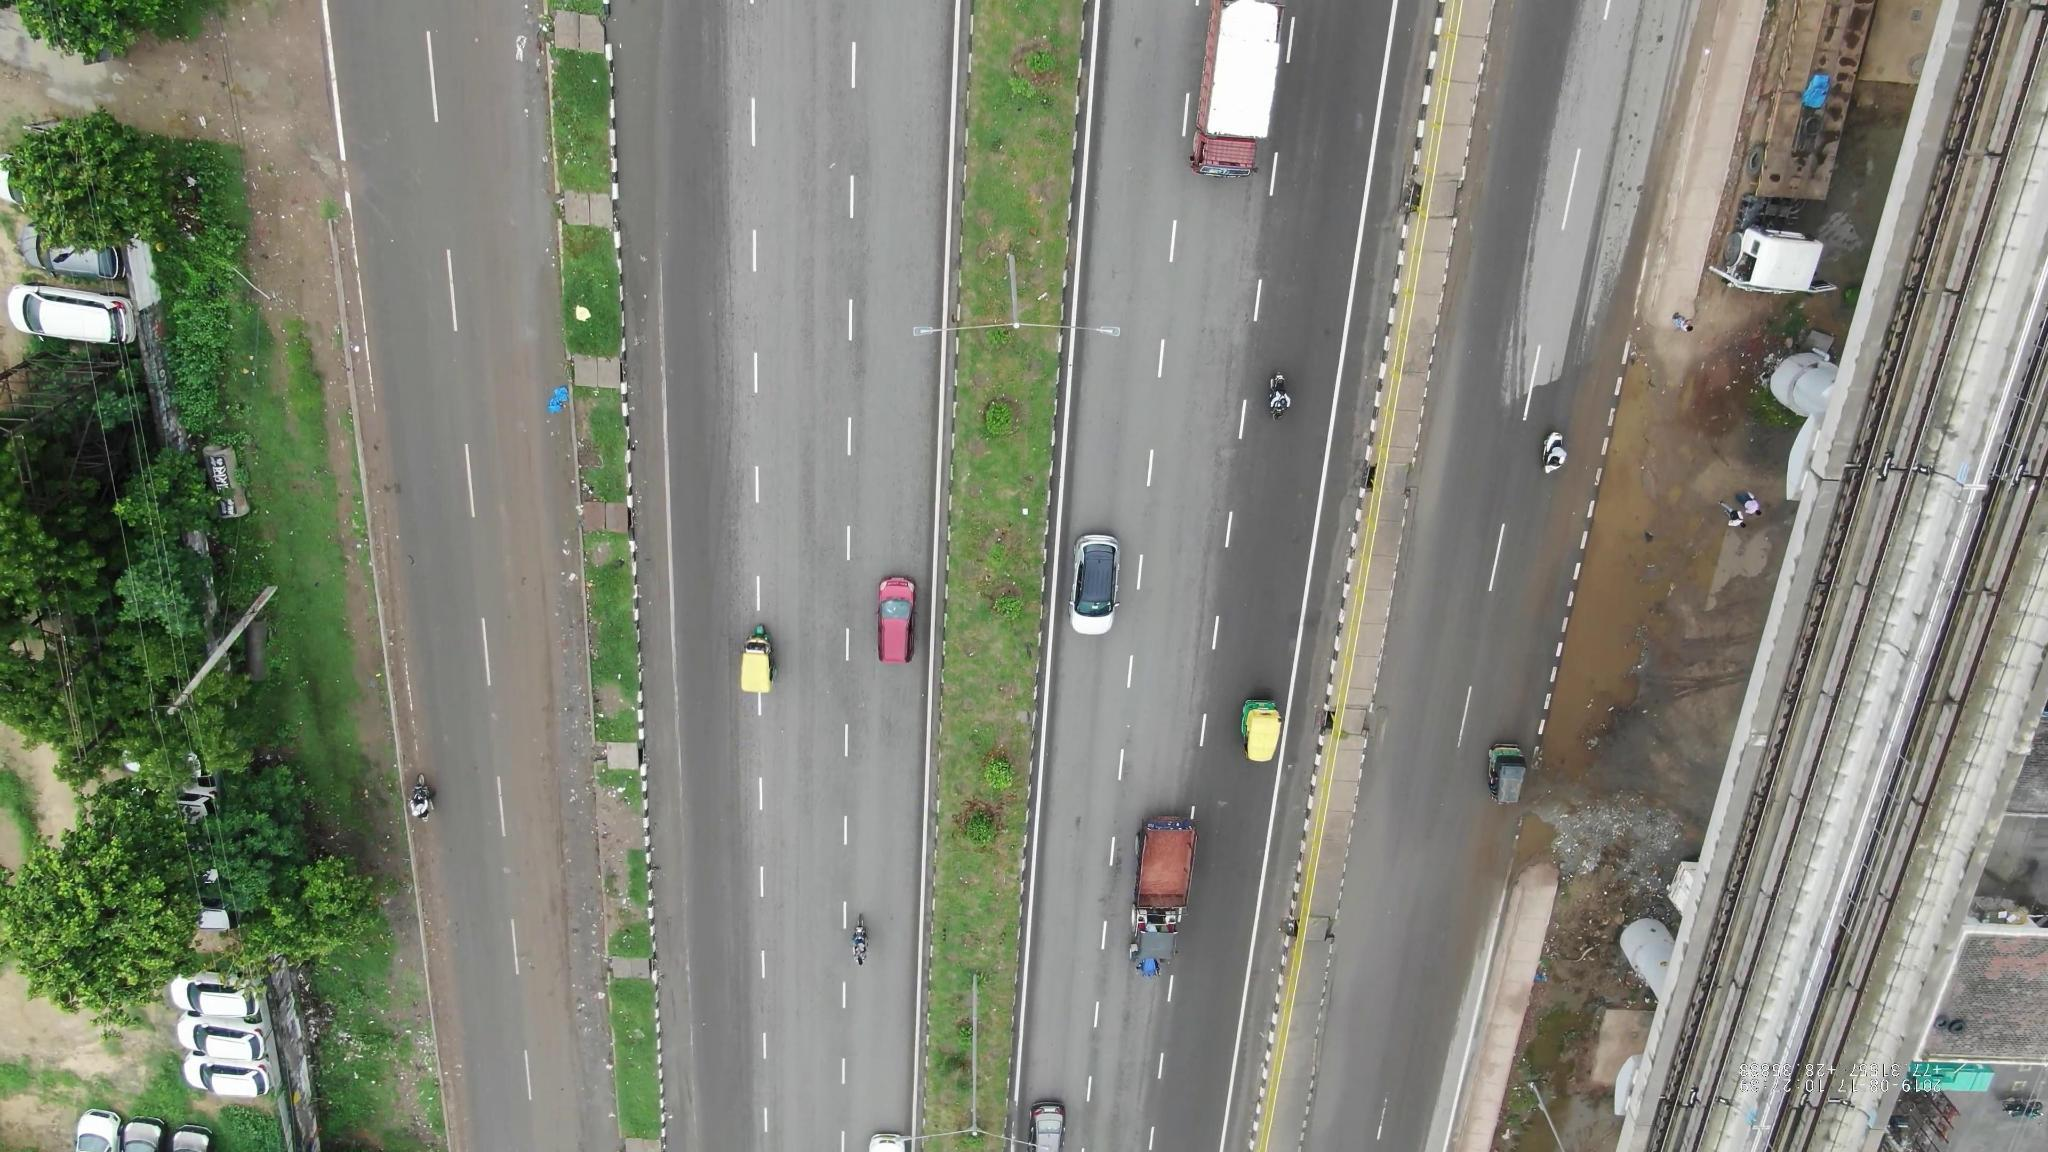Muddy_road: (487, 599, 589, 1023), (501, 141, 580, 567)
